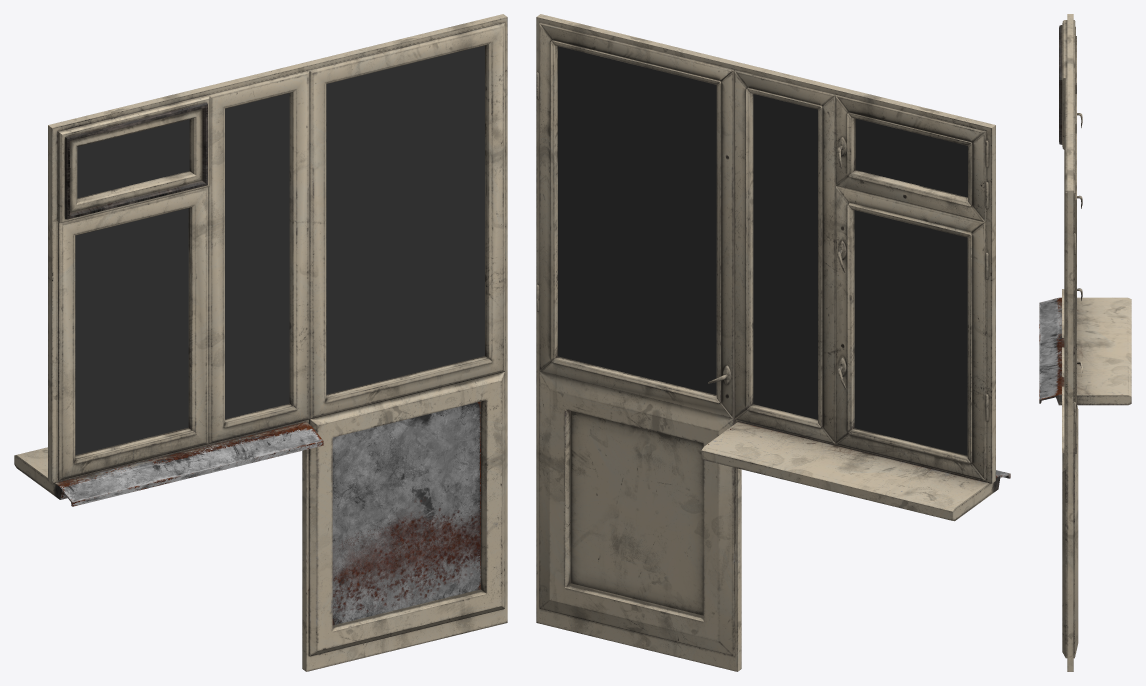
File: SM_BalconyDoorWindow01_Glass.FBX
3 renders of one model, left to right at view 1: azimuth 30°, elevation 25°; view 2: azimuth 150°, elevation 25°; view 3: azimuth 270°, elevation 25°, orthographic. The views are drawn at different scales.
Parts seen in each view (by area): view 1: SM_BalconyDoorWindow01_Glass_LOD0; view 2: SM_BalconyDoorWindow01_Glass_LOD0; view 3: SM_BalconyDoorWindow01_Glass_LOD0.
Boxes of the visible parts, box(x1,y1,x2,y2) form: SM_BalconyDoorWindow01_Glass_LOD0: box(14, 14, 507, 671); SM_BalconyDoorWindow01_Glass_LOD0: box(536, 14, 1010, 671); SM_BalconyDoorWindow01_Glass_LOD0: box(1039, 14, 1131, 671).
Bounding box in the file's own units: 181 × 39.96 × 230.
